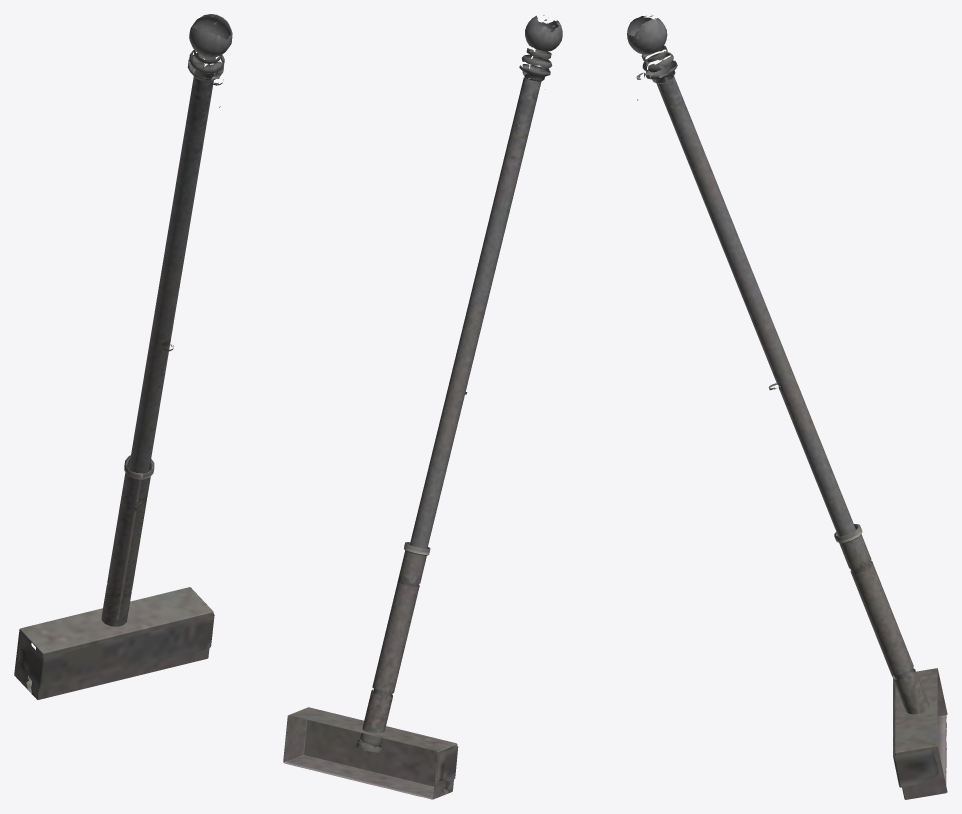
The model's file is sm21_023_flag02a.fbx.
The picture shows the model from 3 angles, left to right: view 1: azimuth 30°, elevation 25°; view 2: azimuth 150°, elevation 25°; view 3: azimuth 270°, elevation 25°; orthographic projection. The views are drawn at different scales.
Visible parts, largest first — view 1: LOD_1_Group_0_Sub_1__sm21_021_Flag01A_A_Mat; view 2: LOD_1_Group_0_Sub_1__sm21_021_Flag01A_A_Mat; view 3: LOD_1_Group_0_Sub_1__sm21_021_Flag01A_A_Mat.
Boxes of the visible parts, bbox=[...] form: LOD_1_Group_0_Sub_1__sm21_021_Flag01A_A_Mat: bbox=[14, 14, 232, 699]; LOD_1_Group_0_Sub_1__sm21_021_Flag01A_A_Mat: bbox=[283, 15, 562, 799]; LOD_1_Group_0_Sub_1__sm21_021_Flag01A_A_Mat: bbox=[627, 15, 947, 799].
Bounding box in the file's own units: 82.09 × 365 × 154.
